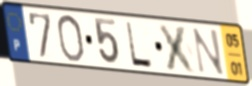5: (92, 16, 121, 67)
7: (27, 11, 53, 59)
L: (124, 20, 156, 70)
N: (190, 27, 226, 78)
O: (55, 13, 86, 64)
X: (156, 22, 199, 76)
